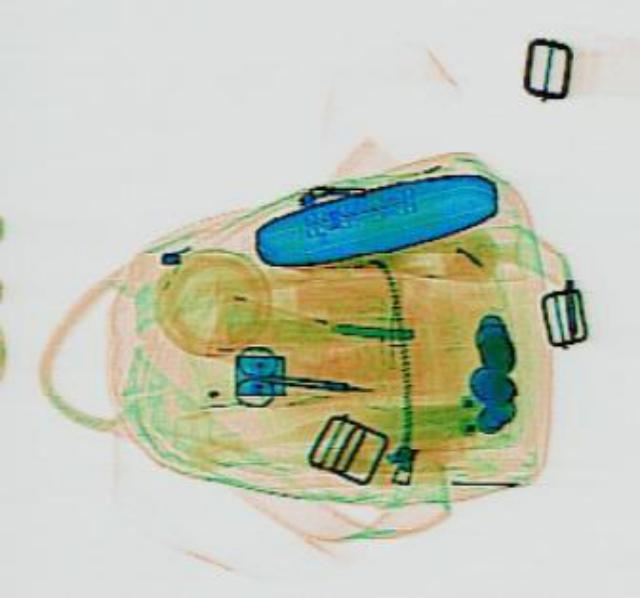Scissors: (226, 340, 372, 416)
